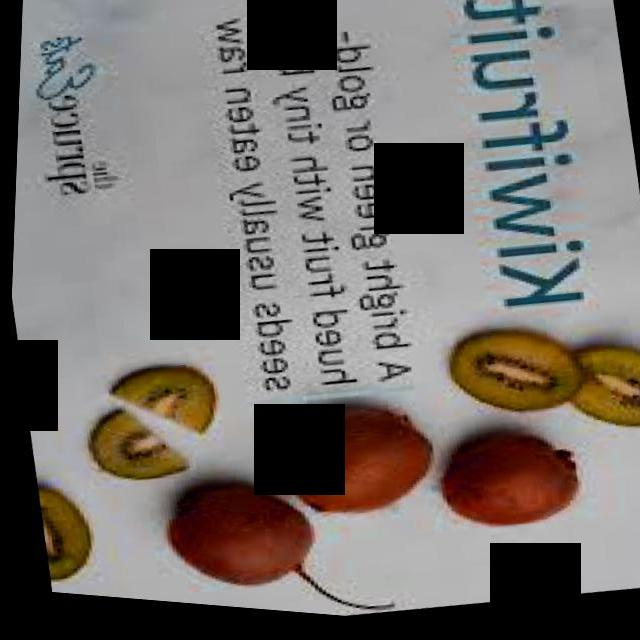kiwi: (273, 395, 459, 550), (155, 480, 330, 621), (442, 423, 596, 551)
